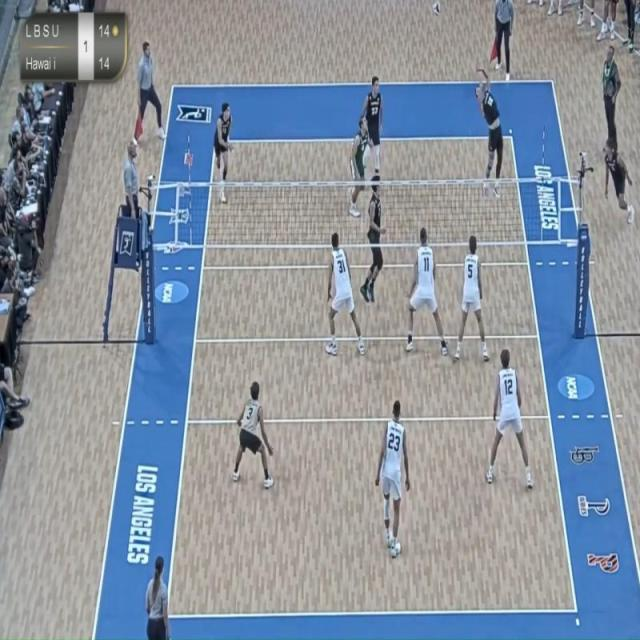volleyball: (429, 0, 445, 24)
